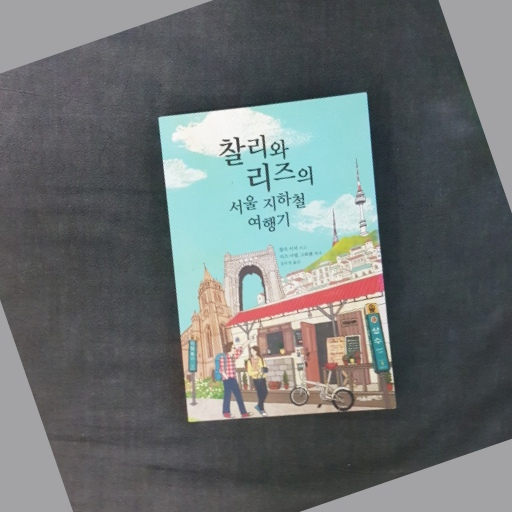Paper_0: (151, 88, 405, 432)
